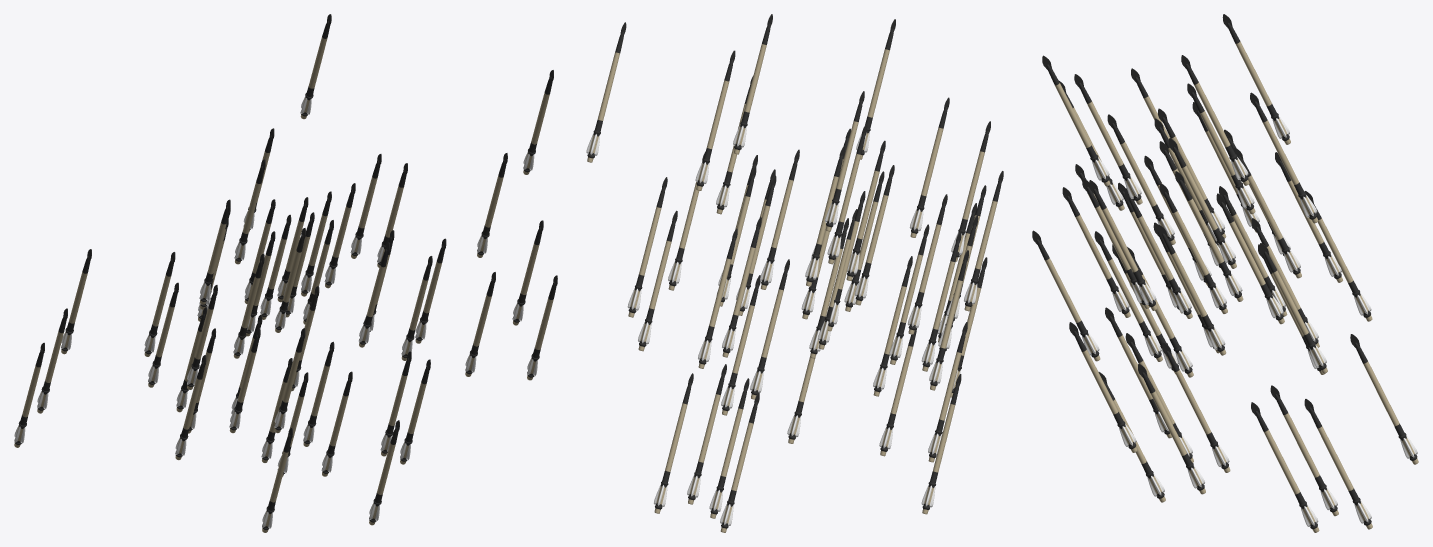
The picture shows the model from 3 angles, left to right: view 1: azimuth 30°, elevation 25°; view 2: azimuth 150°, elevation 25°; view 3: azimuth 270°, elevation 25°; orthographic projection. The views are drawn at different scales.
Parts seen in each view (by area): view 1: C4; view 2: C4; view 3: C4.
Boxes of the visible parts, x1=… form: C4: x1=14, y1=14, x2=557, y2=532; C4: x1=586, y1=14, x2=1003, y2=532; C4: x1=1032, y1=14, x2=1418, y2=532.
Bounding box in the file's own units: 1.21 × 1.3 × 0.9157.
